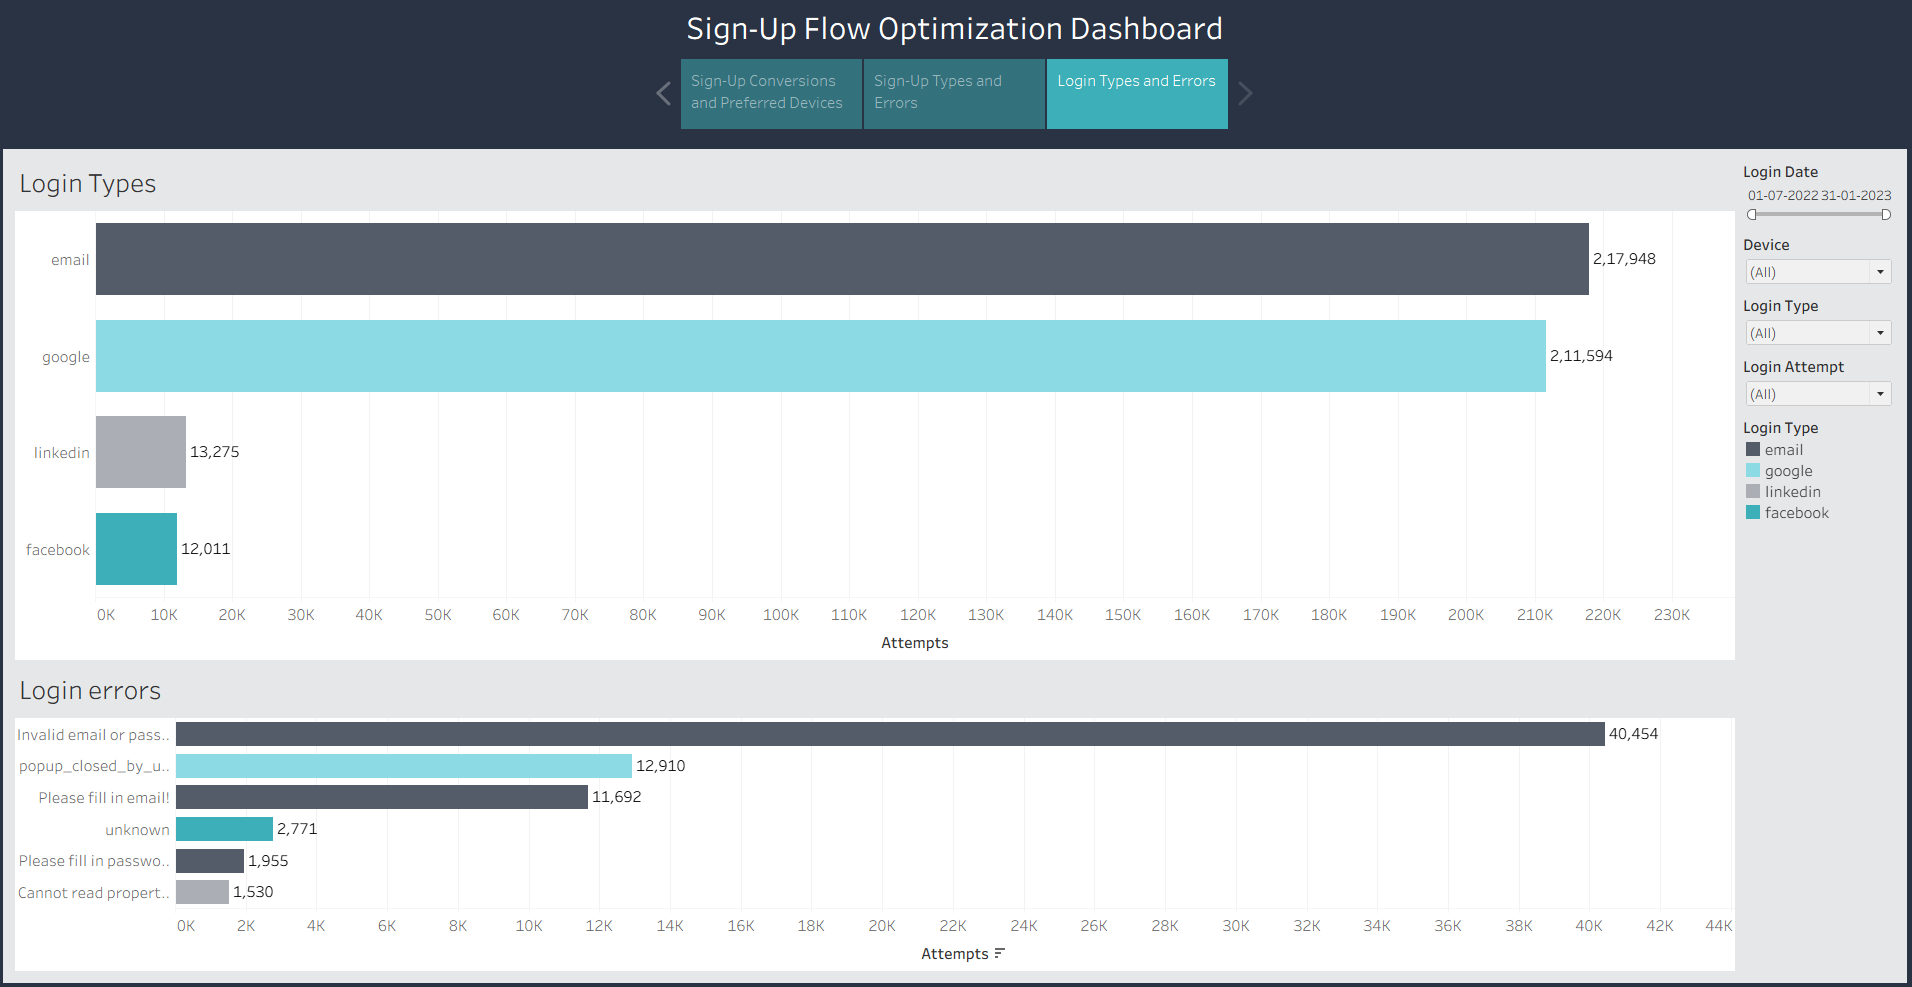

The dashboard page shown, as its layout file describes it:
{"tool":"tableau","page":{"name":"Login Types and Errors","canvas":[1000,1000],"units":"permille","ordinal":0},"visuals":[{"type":"worksheet","title":"Login Types","mark":"Automatic","rows":["login_type"],"cols":["Calculation_564638856194850822"],"box":[4.8,10,893.8,608]},{"type":"filter","title":"Login errors","param":"[federated.0mkti2z0igezco10x7b0b1ojkehh].[none:login_date:qk]","box":[898.6,10,96.6,91.1]},{"type":"filter","title":"Login errors","param":"[federated.0mkti2z0igezco10x7b0b1ojkehh].[none:device:nk]","box":[898.6,101.1,96.6,76.2]},{"type":"filter","title":"Login errors","param":"[federated.0mkti2z0igezco10x7b0b1ojkehh].[none:login_type:nk]","box":[898.6,177.3,96.6,76.2]},{"type":"filter","title":"Login errors","param":"[federated.0mkti2z0igezco10x7b0b1ojkehh].[none:login_attempt:nk]","box":[898.6,253.5,96.6,76.2]},{"type":"legend","title":"Login Types","param":"[federated.0mkti2z0igezco10x7b0b1ojkehh].[none:login_type:nk]","box":[898.6,329.6,96.6,142.3]},{"type":"worksheet","title":"Login errors","mark":"Automatic","rows":["error_message"],"cols":["Calculation_564638856194850822"],"box":[4.8,618,893.8,372.1]}]}

Visuals, with their boxes on the dashboard's canvas, which has no fixed pixel size, in thousandths of its width and height (x1, y1, x2, y2). These are canvas units, not pixel positions in the 1912x987 screenshot, which may show the page scaled, cropped or inside an application window:
"Login Types" worksheet: region(5, 10, 899, 618)
"Login errors" filter: region(899, 10, 995, 101)
"Login errors" filter: region(899, 101, 995, 177)
"Login errors" filter: region(899, 177, 995, 254)
"Login errors" filter: region(899, 254, 995, 330)
"Login Types" legend: region(899, 330, 995, 472)
"Login errors" worksheet: region(5, 618, 899, 990)
